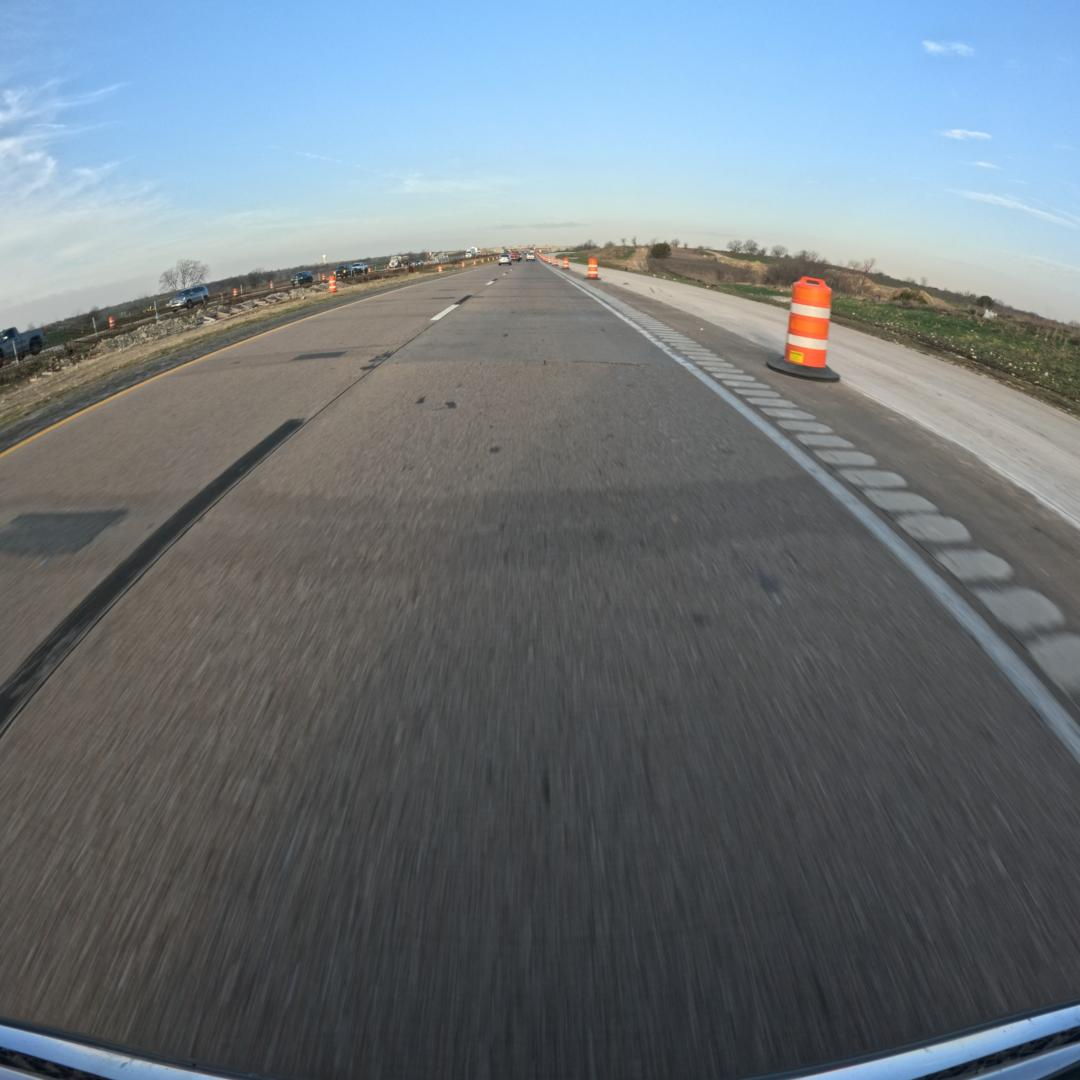lane0: (0, 266, 1080, 1077)
lane1: (0, 265, 503, 734), (505, 266, 511, 270)
